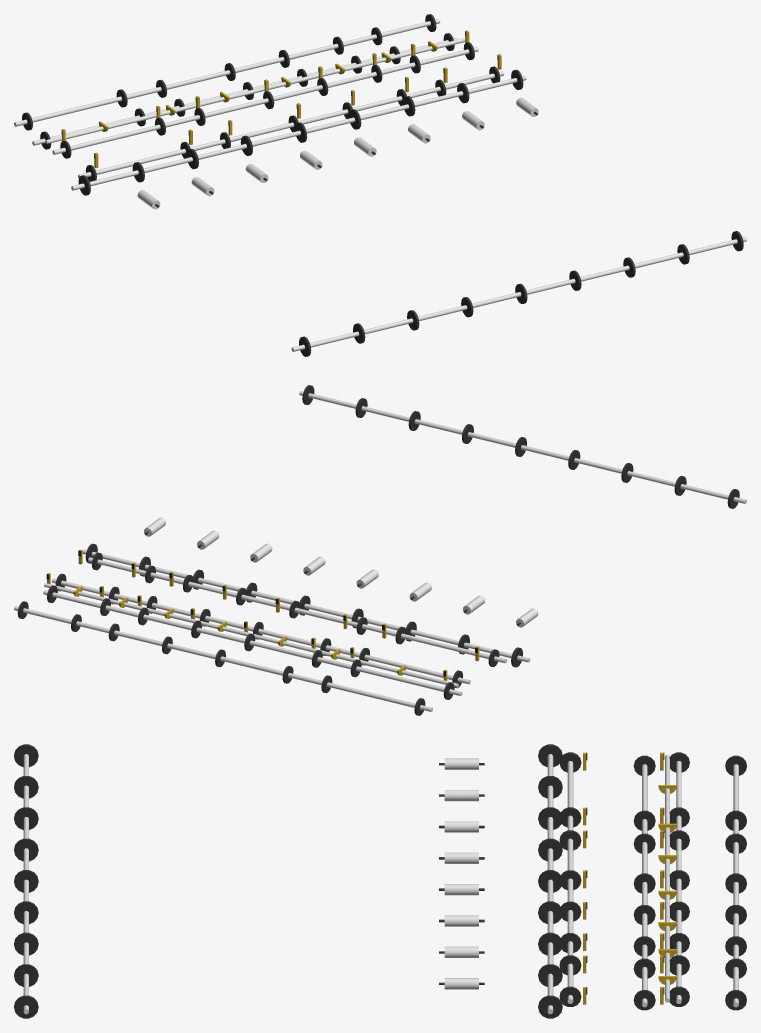
Rendered from board_deck_parts.glb.
3 views of the same model, one above another, from view 1: azimuth 30°, elevation 25°; view 2: azimuth 150°, elevation 25°; view 3: azimuth 270°, elevation 25° (orthographic). The views are drawn at different scales.
Parts seen in each view (by area): view 1: BD_ScanHeadMesh, BD_ScanTailMesh, BD_LugMidAMesh, BD_LugTailMesh, BD_LugHeadMesh, BD_FlipperMesh, BD_LugMidBMesh; view 2: BD_ScanHeadMesh, BD_LugTailMesh, BD_LugMidBMesh, BD_ScanTailMesh, BD_LugHeadMesh, BD_LugMidAMesh, BD_FlipperMesh, BD_StopsEndMesh; view 3: BD_ScanHeadMesh, BD_ScanTailMesh, BD_LugHeadMesh, BD_LugTailMesh, BD_LugMidAMesh, BD_LugMidBMesh, BD_FlipperMesh, BD_StopsEndMesh, BD_StopsHalfMesh, BD_ZeroRoll3Mesh, BD_ZeroRoll6Mesh.
Boxes of the visible parts, x1,y1,x2,y2 form: BD_ScanHeadMesh: (291, 231, 746, 356); BD_ScanTailMesh: (71, 69, 526, 195); BD_LugMidAMesh: (52, 42, 478, 158); BD_LugTailMesh: (14, 14, 440, 130); BD_LugHeadMesh: (78, 66, 504, 181); BD_FlipperMesh: (45, 38, 465, 143); BD_LugMidBMesh: (32, 33, 458, 149); BD_ScanHeadMesh: (299, 385, 746, 508); BD_LugTailMesh: (14, 601, 432, 715); BD_LugMidBMesh: (43, 585, 462, 699); BD_ScanTailMesh: (82, 543, 530, 667); BD_LugHeadMesh: (88, 552, 507, 666); BD_LugMidAMesh: (51, 573, 470, 688); BD_FlipperMesh: (44, 583, 458, 687); BD_StopsEndMesh: (78, 549, 479, 661); BD_ScanHeadMesh: (14, 744, 38, 1018); BD_ScanTailMesh: (538, 744, 562, 1018); BD_LugHeadMesh: (559, 752, 581, 1006); BD_LugTailMesh: (725, 755, 746, 1010); BD_LugMidAMesh: (633, 755, 655, 1010); BD_LugMidBMesh: (669, 752, 689, 1006); BD_FlipperMesh: (658, 754, 676, 1002); BD_StopsEndMesh: (583, 752, 587, 1004); BD_StopsHalfMesh: (660, 752, 664, 1004); BD_ZeroRoll3Mesh: (439, 821, 484, 832); BD_ZeroRoll6Mesh: (439, 915, 484, 926).
Bounding box in the file's own units: 5.53 × 0.279 × 6.52.
